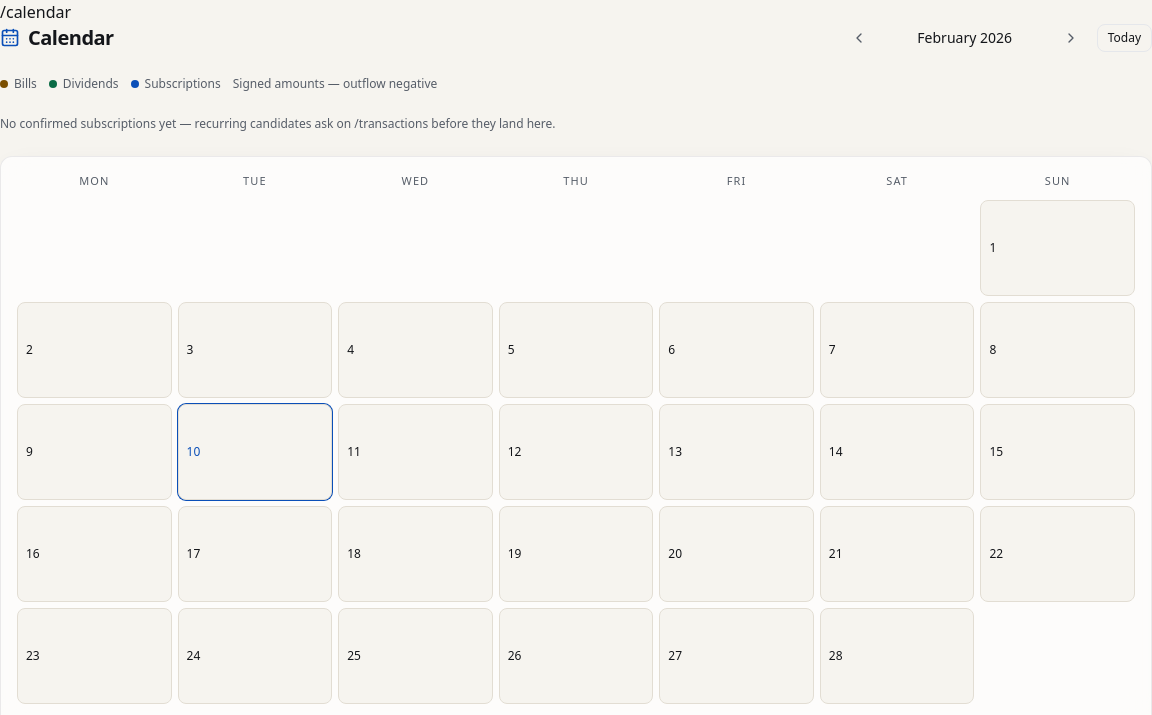
Test: cash-flow calendar grid › shows the empty-day line when the selected day has no events
This screenshot has width=1152, height=715.
Step 1. Click the button with test id "calendar-day-2026-02-28" → (897, 656), box [820,608,974,704]
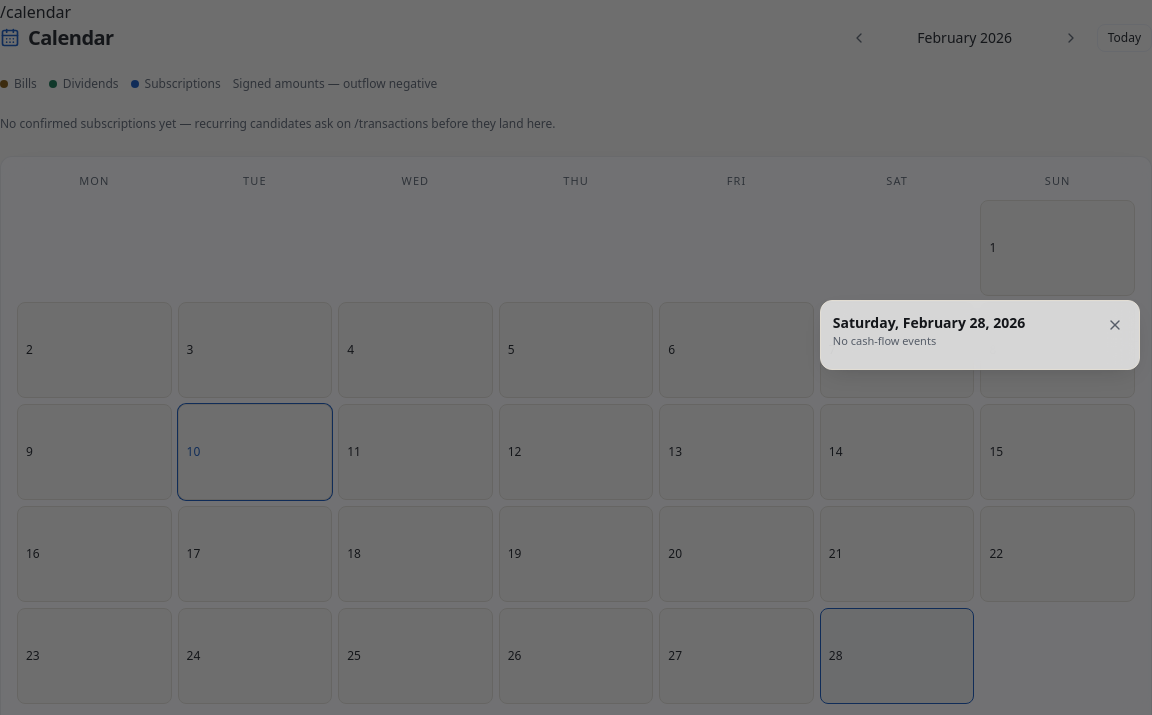
Result: the dialog with test id "calendar-popover" is shown at [820,300,1140,370]
Result: the text "No cash-flow events" is shown at [833,332,936,348]
Step 2. Press Escape
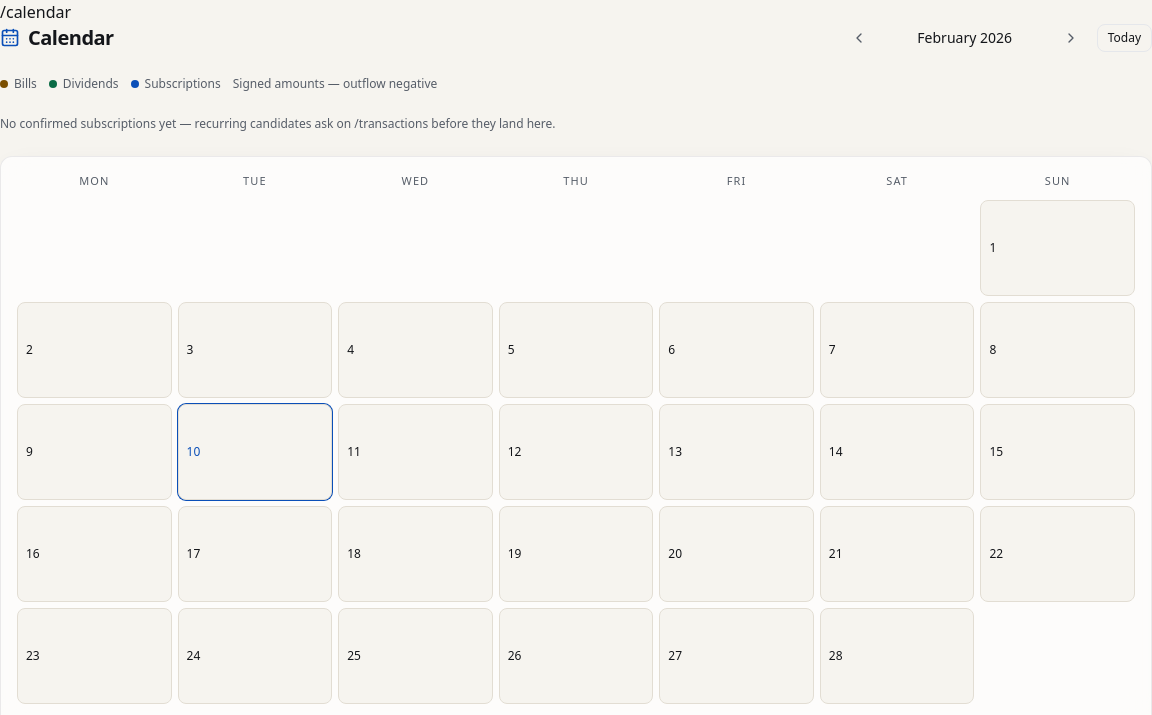
Result: the dialog with test id "calendar-popover" is gone
